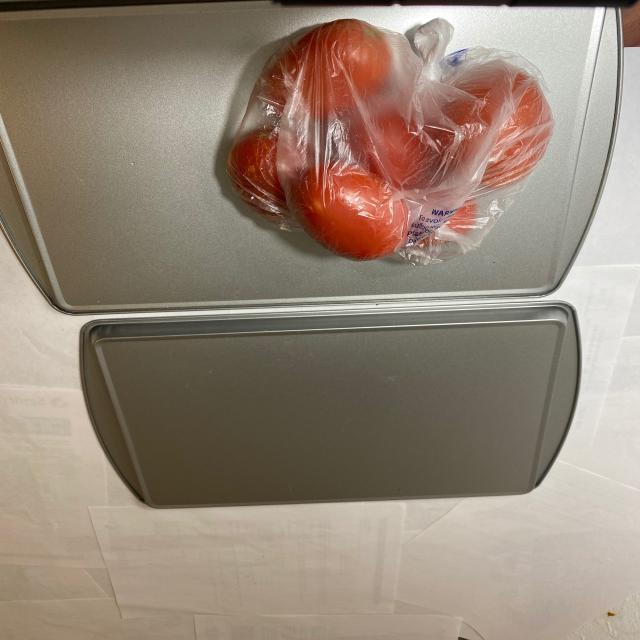tomato: (227, 27, 549, 270)
